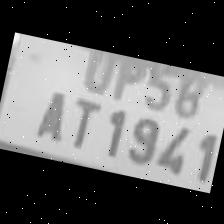1: (183, 122, 222, 182), (92, 99, 130, 158)
4: (152, 115, 195, 174)
5: (136, 59, 177, 110)
8: (168, 66, 208, 117)
9: (120, 106, 161, 165)
A: (28, 80, 72, 142)
P: (106, 52, 147, 104)
T: (59, 89, 104, 151)
U: (74, 46, 118, 94)
